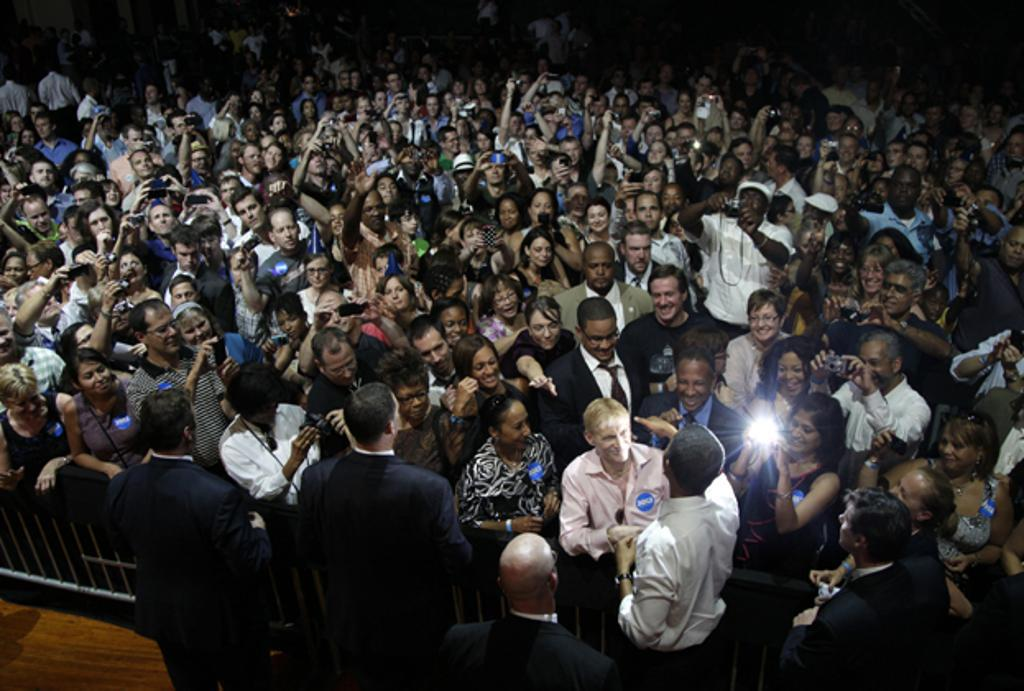face: (879, 470, 933, 512), (678, 361, 712, 411), (596, 416, 631, 462), (498, 405, 531, 450), (787, 412, 823, 453), (581, 320, 617, 361), (940, 429, 976, 469), (146, 312, 180, 354), (859, 344, 893, 384), (395, 379, 427, 420), (778, 355, 809, 397), (414, 338, 450, 373), (651, 279, 681, 319), (882, 274, 912, 314), (318, 298, 351, 334), (8, 386, 41, 421), (325, 352, 358, 386), (76, 325, 109, 359), (532, 311, 560, 350), (472, 347, 498, 388), (100, 297, 131, 331), (586, 253, 615, 289), (439, 309, 467, 346), (180, 315, 211, 348), (751, 305, 779, 341), (80, 362, 111, 393), (236, 199, 267, 230), (892, 173, 918, 209), (26, 290, 60, 317), (626, 236, 651, 272), (492, 284, 518, 318), (441, 278, 467, 312), (860, 257, 885, 292), (873, 238, 901, 269), (272, 217, 298, 249), (251, 395, 278, 425), (637, 196, 660, 229), (974, 191, 999, 221), (839, 502, 856, 546), (385, 279, 409, 310), (231, 258, 256, 287), (829, 243, 853, 273), (924, 291, 948, 321), (278, 310, 301, 341), (363, 198, 385, 230), (26, 206, 52, 233), (1005, 232, 1024, 268), (27, 253, 47, 286), (532, 193, 554, 223), (1, 313, 16, 356), (531, 238, 553, 267), (120, 258, 144, 284), (197, 231, 219, 259), (5, 258, 26, 287), (741, 191, 764, 217), (177, 244, 199, 271), (906, 146, 927, 174), (88, 215, 111, 240), (173, 288, 196, 313), (308, 261, 330, 287), (74, 191, 96, 217), (662, 190, 684, 216), (568, 188, 588, 216), (720, 158, 742, 183), (329, 207, 348, 235), (500, 201, 519, 229), (465, 227, 486, 252), (379, 179, 399, 205), (376, 259, 395, 286), (670, 213, 689, 240), (588, 207, 609, 231), (796, 234, 817, 258), (802, 202, 822, 227), (734, 144, 753, 170), (486, 160, 506, 184), (132, 154, 153, 176), (34, 164, 54, 187), (6, 297, 23, 324), (244, 148, 262, 173), (626, 200, 642, 228), (561, 143, 580, 166), (712, 344, 727, 373), (190, 152, 210, 173), (151, 212, 173, 231), (364, 138, 382, 161), (838, 138, 856, 161), (829, 179, 846, 203), (221, 183, 240, 204), (69, 219, 87, 241), (644, 172, 662, 194), (886, 146, 904, 168), (401, 210, 418, 233), (403, 154, 421, 175), (648, 143, 666, 164), (103, 184, 120, 206), (309, 151, 326, 173), (172, 118, 192, 136), (529, 145, 547, 165), (872, 184, 889, 205), (266, 147, 282, 169), (457, 167, 473, 189), (1009, 135, 1024, 158), (646, 128, 663, 148), (845, 122, 862, 142), (766, 151, 779, 177), (967, 164, 983, 185), (478, 111, 494, 132), (949, 164, 966, 183), (557, 184, 572, 205), (797, 138, 812, 158), (782, 202, 796, 223), (761, 137, 778, 154), (36, 119, 52, 137), (707, 128, 723, 146), (446, 133, 461, 152), (423, 149, 438, 167), (868, 154, 883, 172), (456, 119, 471, 137), (129, 132, 143, 151), (389, 124, 403, 143), (324, 131, 338, 150), (623, 121, 638, 138), (678, 129, 693, 146), (828, 114, 843, 131), (926, 109, 941, 126), (229, 96, 243, 114), (524, 129, 537, 148), (615, 98, 628, 117), (835, 67, 848, 86), (324, 161, 338, 178), (230, 144, 243, 162), (273, 118, 287, 134), (75, 154, 88, 171), (427, 99, 440, 116), (478, 134, 491, 151), (731, 112, 744, 129), (510, 117, 522, 135), (971, 87, 983, 105), (639, 104, 653, 119), (2, 186, 15, 202), (31, 108, 44, 124), (247, 125, 260, 141), (324, 116, 337, 132), (279, 138, 292, 154), (575, 77, 588, 93), (641, 83, 654, 99), (902, 99, 915, 115), (790, 83, 803, 99), (22, 132, 34, 149), (146, 86, 158, 103), (502, 89, 514, 106), (518, 76, 530, 93), (396, 100, 410, 114), (340, 117, 353, 132), (350, 73, 363, 88), (544, 115, 557, 130), (960, 113, 973, 128), (136, 110, 148, 126), (251, 92, 263, 108), (990, 107, 1002, 123), (913, 79, 925, 95), (680, 95, 691, 112), (359, 128, 372, 142), (12, 117, 24, 132), (250, 107, 262, 122), (203, 83, 215, 98), (1002, 82, 1014, 97), (303, 134, 314, 150), (377, 94, 388, 110), (594, 99, 605, 115), (306, 79, 318, 93), (342, 96, 354, 110), (699, 79, 711, 93), (305, 102, 316, 117), (340, 74, 351, 89), (83, 124, 95, 137), (390, 79, 402, 92), (746, 70, 758, 83), (360, 102, 371, 116), (418, 70, 429, 84), (852, 66, 863, 80), (663, 67, 673, 82), (781, 104, 791, 119), (476, 81, 487, 94), (165, 110, 175, 124), (868, 84, 878, 98), (446, 93, 455, 108), (667, 132, 676, 147), (454, 83, 465, 95), (227, 124, 237, 137), (615, 72, 625, 85), (791, 109, 801, 122), (538, 61, 547, 74), (935, 92, 944, 105), (334, 99, 343, 111), (409, 85, 415, 102)
